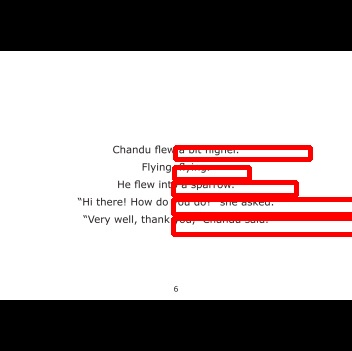latin: (71, 192, 276, 207), (79, 210, 268, 226), (108, 141, 243, 153), (112, 176, 235, 189), (137, 161, 212, 173)
